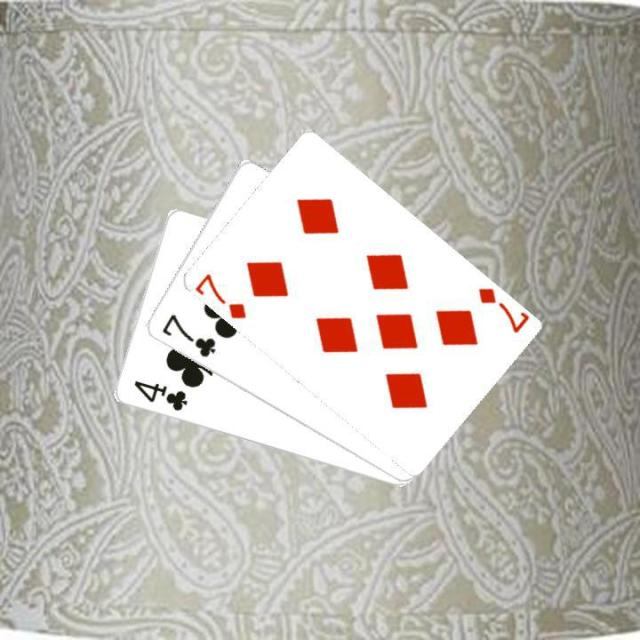4C: (129, 377, 188, 413)
7C: (157, 310, 218, 360)
7D: (192, 269, 248, 321), (473, 284, 529, 335)
